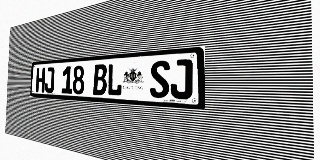1: (61, 66, 73, 94)
8: (72, 65, 85, 94)
B: (93, 64, 107, 95)
H: (36, 68, 45, 92)
J: (170, 59, 193, 99), (44, 67, 55, 93)
L: (107, 63, 122, 96)
S: (150, 60, 170, 98)
